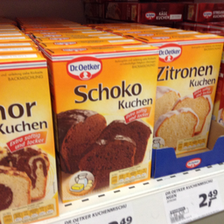cake: (47, 45, 156, 199), (1, 57, 55, 224), (149, 37, 224, 156)
